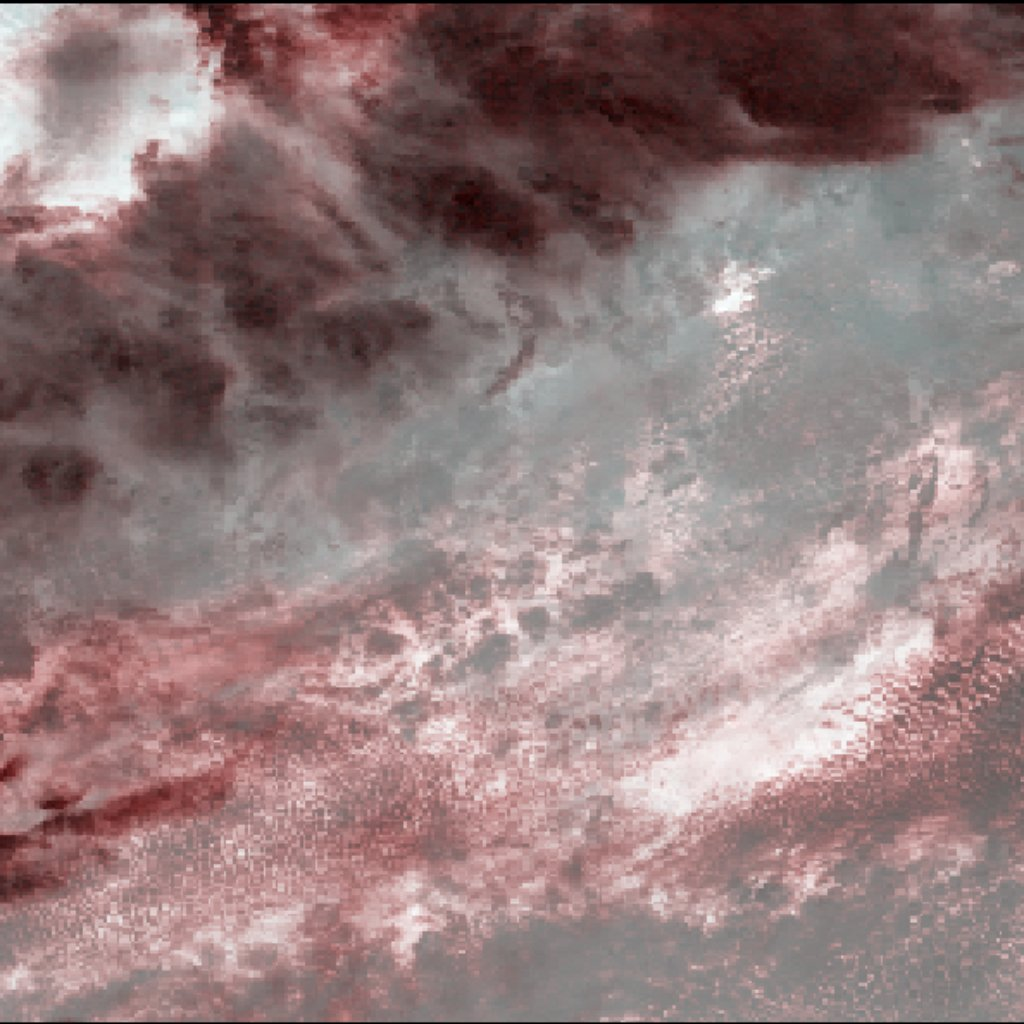fire: (0, 4, 1024, 1023)
